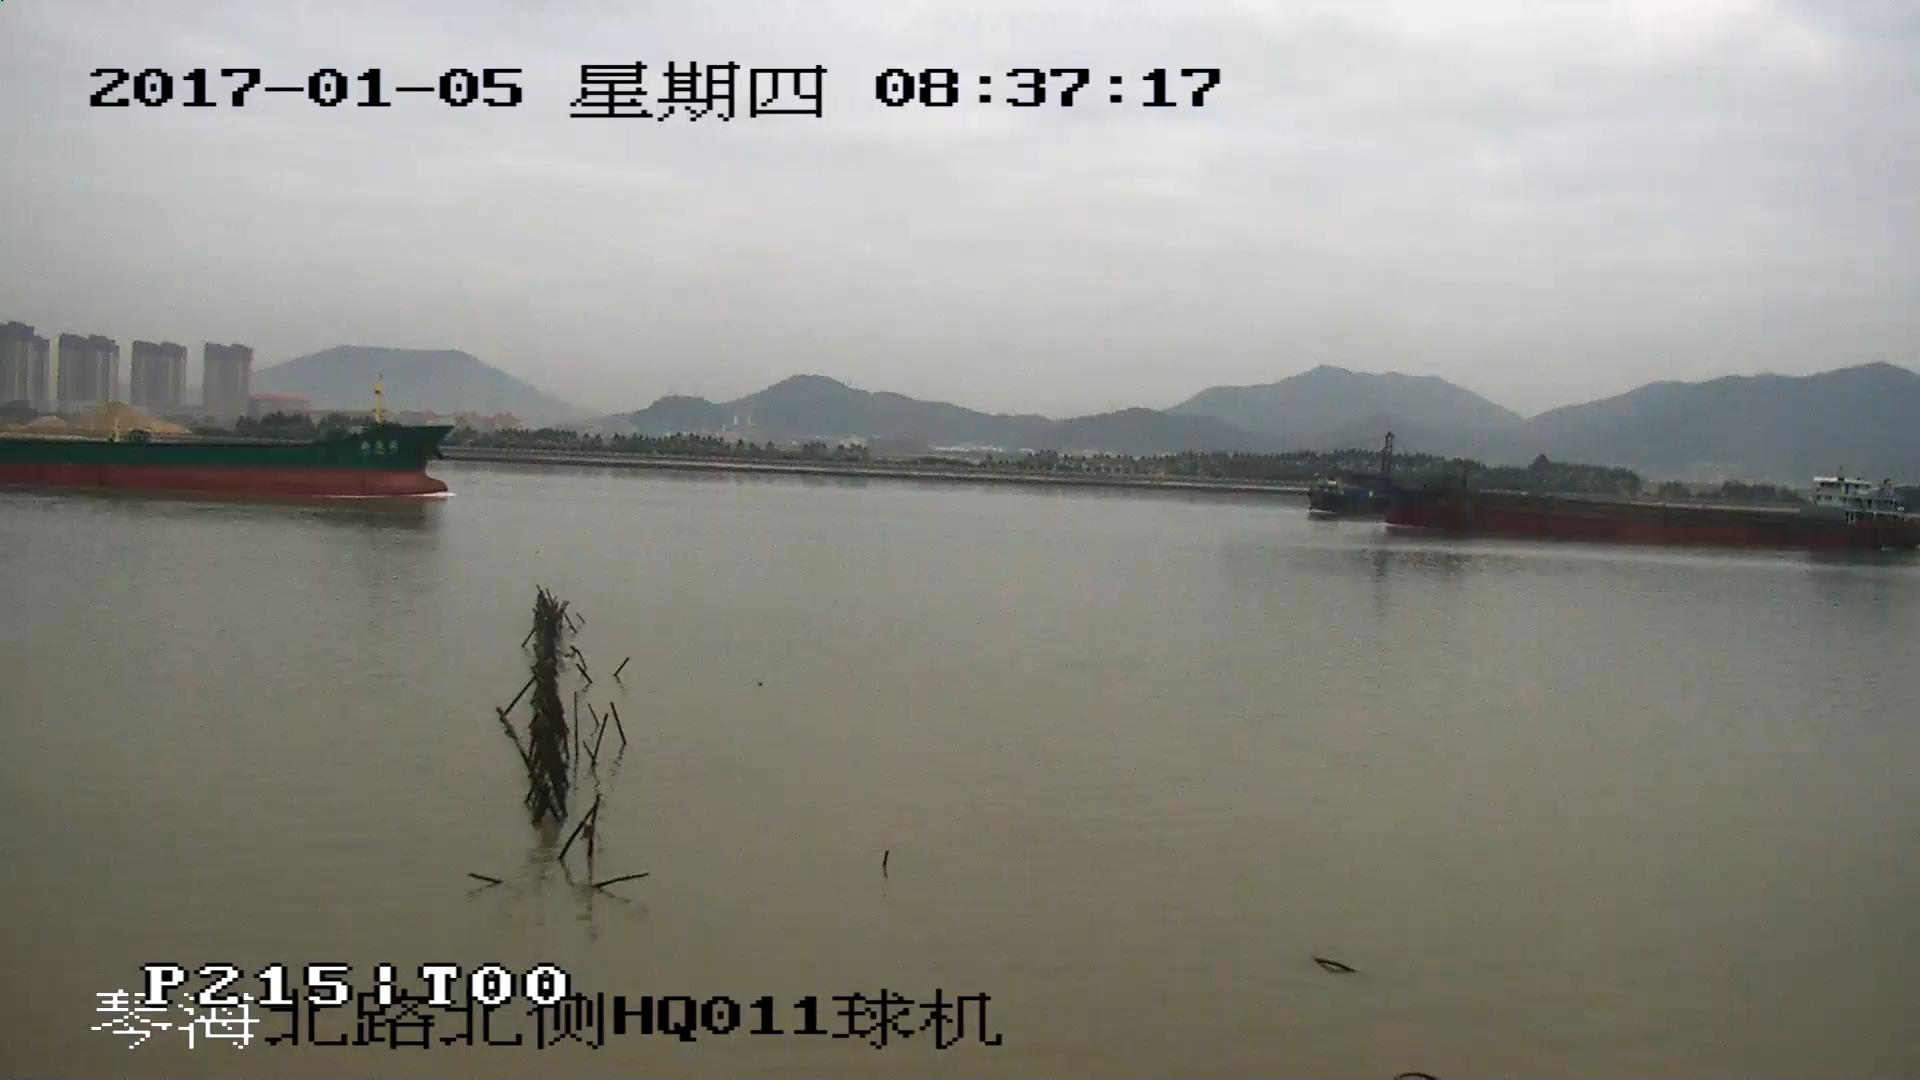bulk cargo carrier: (1310, 439, 1920, 544)
general cargo ship: (1, 369, 447, 496)
